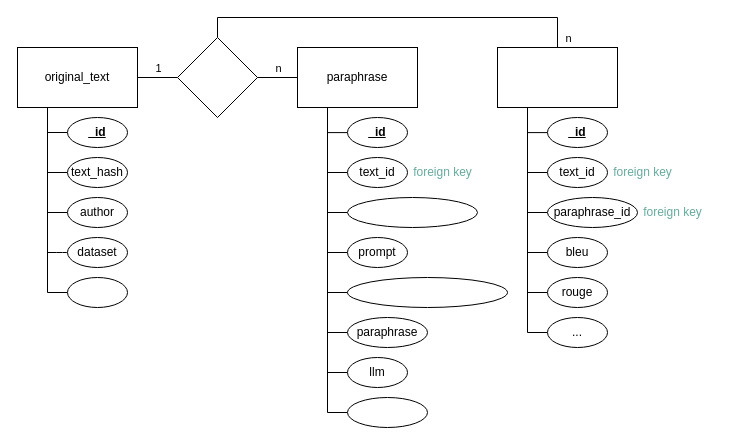
The diagram is 730 pixels wide and 445 high, and some of its shapes have lost their labels. The centre of each missing label's shape, as x and y in pixels:
has: [217,77]
intermediate_paraphrase: [427,292]
intermediate_prompt: [412,212]
score: [557,77]
temperature: [387,412]
text: [97,292]
